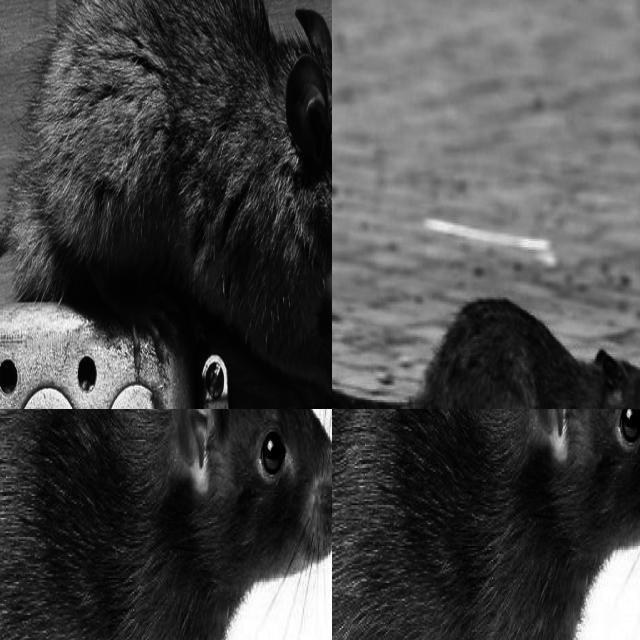rat: (8, 0, 332, 303), (0, 409, 332, 640), (332, 409, 640, 640), (420, 298, 640, 409)
